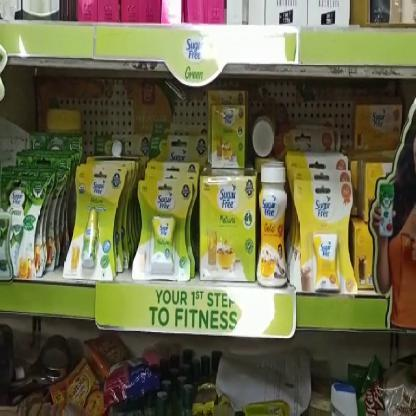SUGAR FREE GOLD 500 PELLET: (294, 176, 360, 296)
SUGAR FREE GOLD POWDER 100GM: (257, 163, 286, 290)
SUGAR FREE GRN 300 PELLET: (0, 175, 41, 280)
SUGAR FREE NATURA 500 PELLET: (131, 178, 193, 282)
SUGAR FREE NATURA SACHET 50: (200, 175, 256, 284)
SUGAR FREE NATURA SWEET DROPS: (63, 166, 124, 280)
